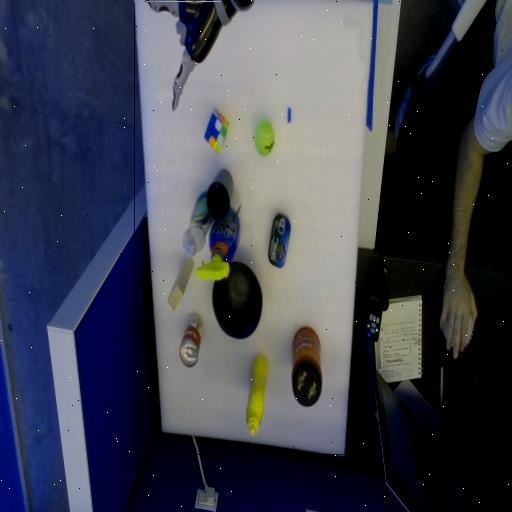bowl: (211, 263, 261, 338)
cleanser: (182, 193, 213, 258)
coffee_can: (291, 353, 320, 382)
jaco: (146, 1, 221, 110)
meat_can: (268, 214, 289, 267)
mug: (206, 183, 232, 209)
mustard_bottle: (246, 356, 266, 435)
rubik: (203, 119, 227, 144)
soup_can: (179, 315, 202, 367)
tennis_ball: (254, 128, 274, 148)
windex: (195, 214, 239, 280)
wooden_block: (166, 272, 192, 295)
workspace: (134, 2, 373, 454)
